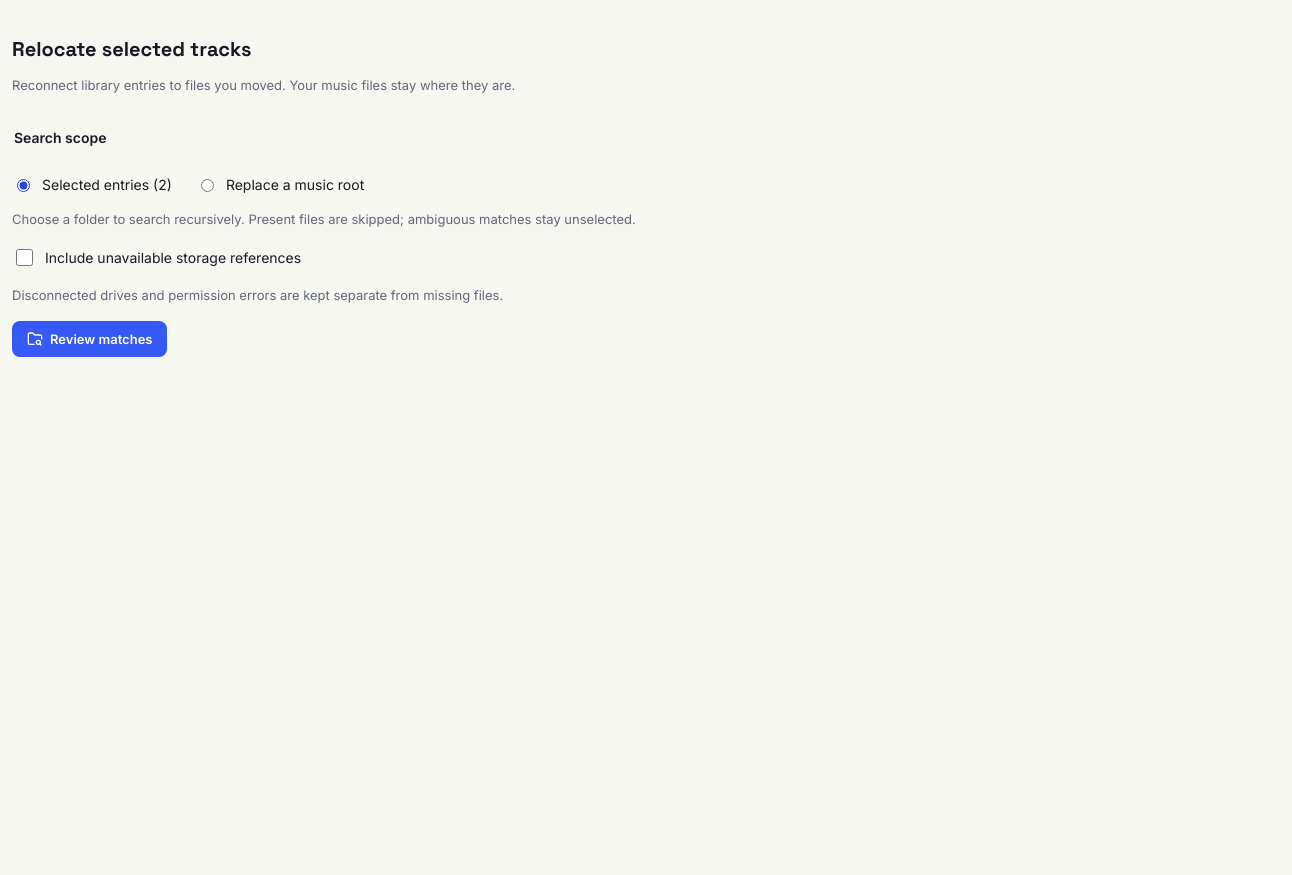
keeps an explicit whole-group survivor when continuation refreshes UUIDs
The image size is (1292, 875).
Click the button "Review matches": (90,339) [12, 321, 168, 357]
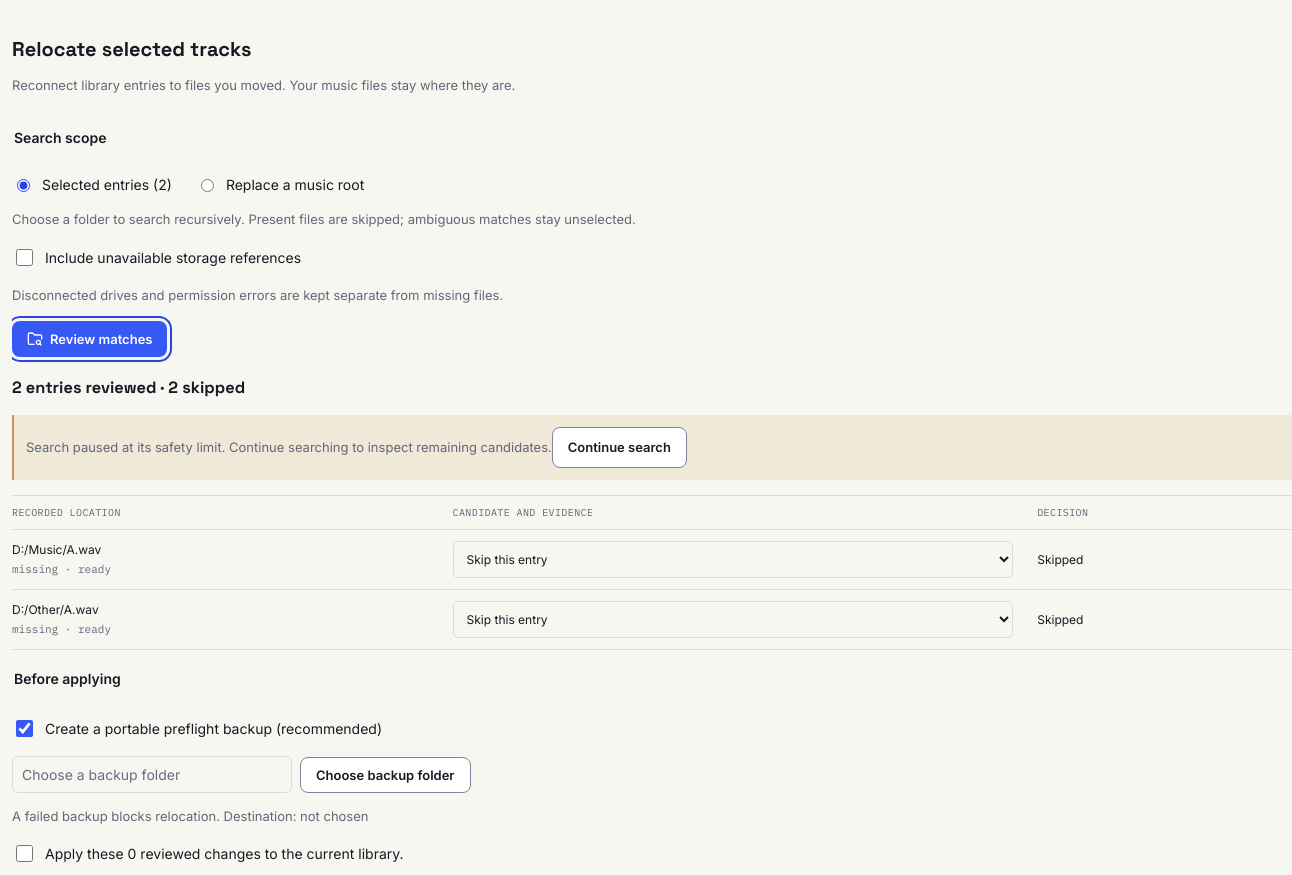
Select "/music/A.mp3" in the dropdown named "Candidate for D:/Music/A.wav": (733,559) [453, 541, 1013, 578]
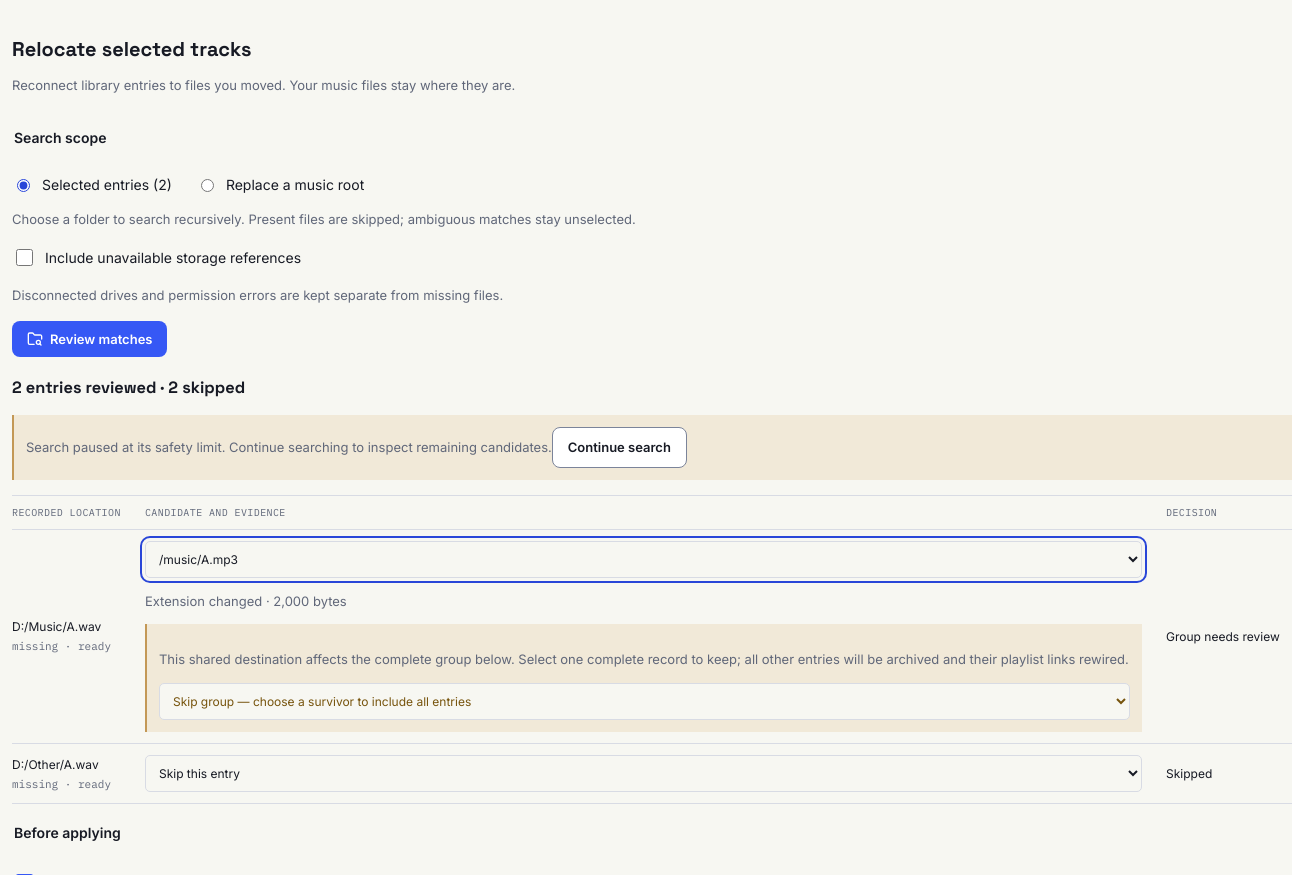
Select "D:/Other/A.wav · b" in the dropdown named "Group survivor for D:/Music/A.wav": (645,702) [159, 683, 1130, 720]
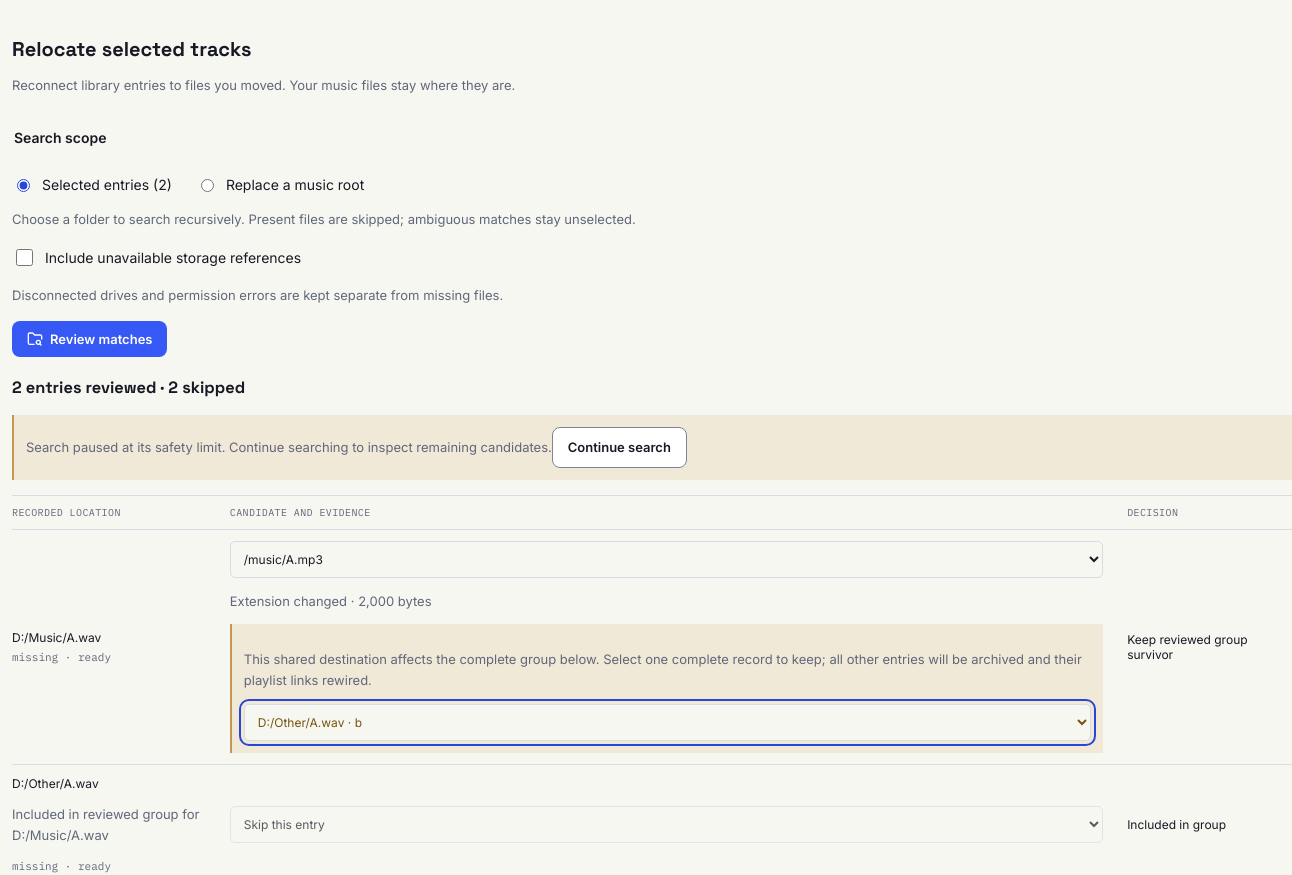
Click the button "Continue search": (619,447) [552, 427, 687, 468]
(page scrolled)
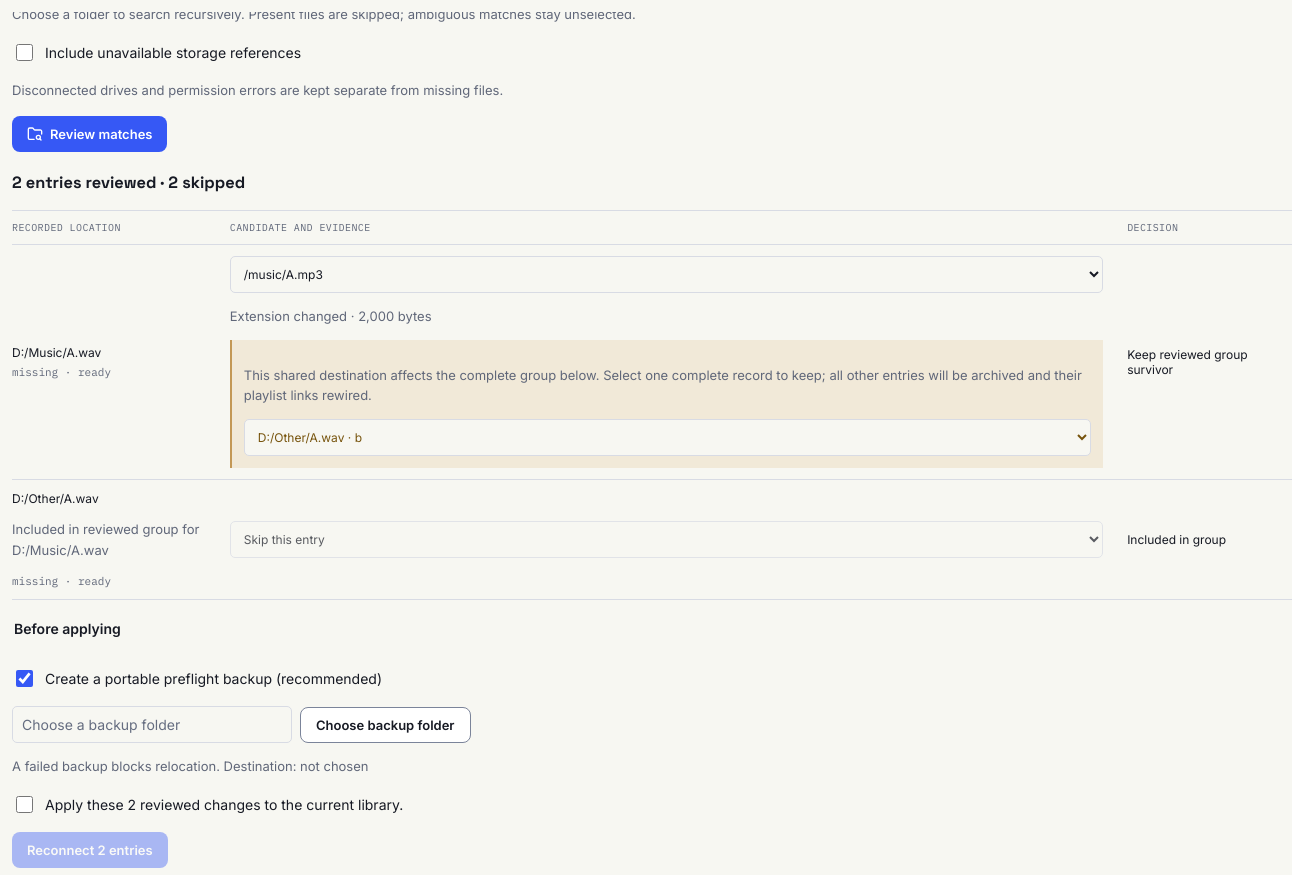
Expected: the dropdown named "Candidate for D:/Other/A.wav" is disabled, [230, 521, 1103, 558]
Expected: the button "Reconnect 2 entries" is disabled, [12, 832, 168, 868]
